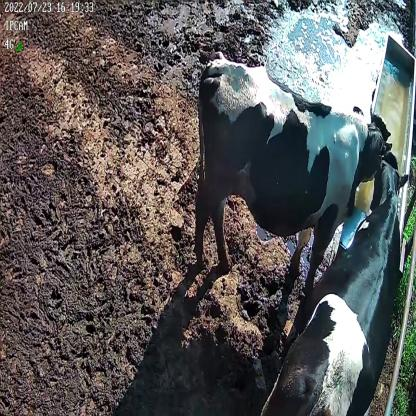cow: (194, 56, 393, 292), (260, 150, 410, 416)
